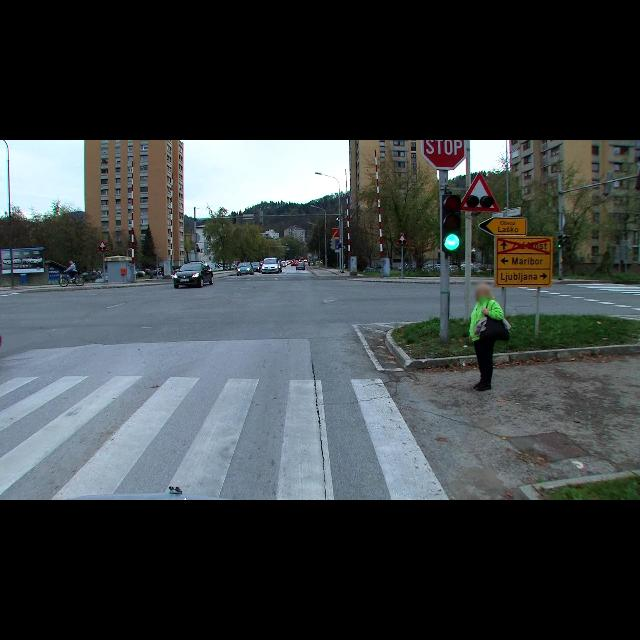Multi-inform: (494, 237, 552, 287), (478, 217, 528, 236)
Stop: (422, 140, 466, 170)
Triangle: (462, 174, 500, 212), (396, 234, 410, 246), (97, 240, 109, 254)
